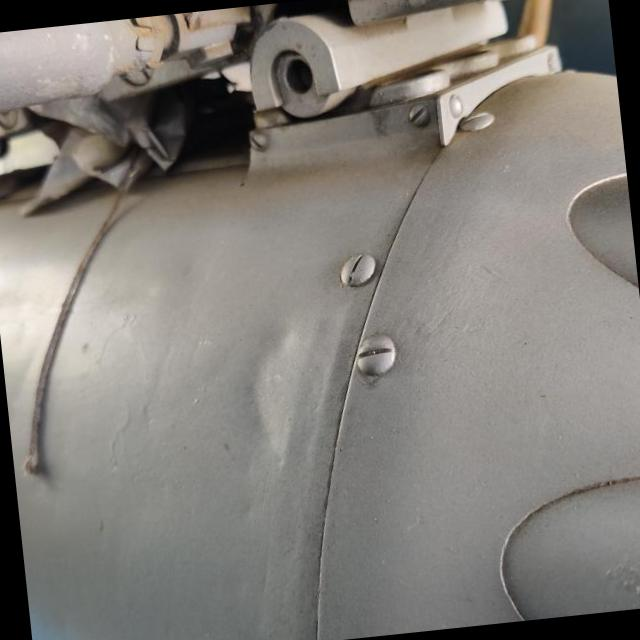Dent: (254, 319, 332, 459)
